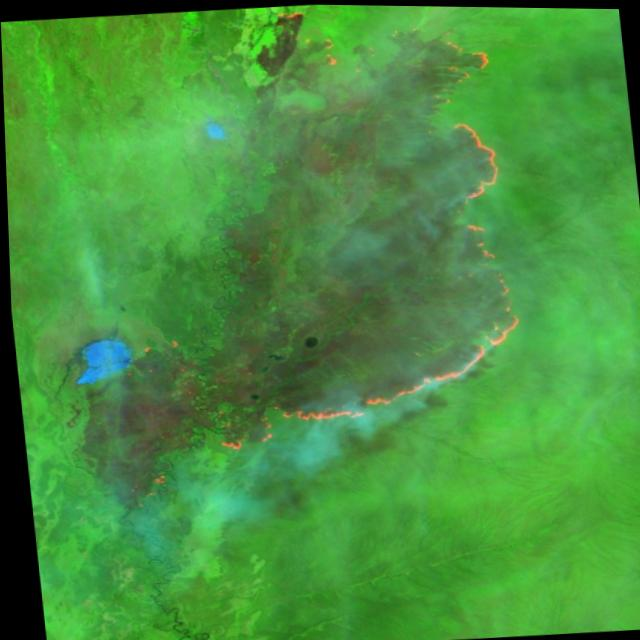fire: (166, 2, 530, 456)
